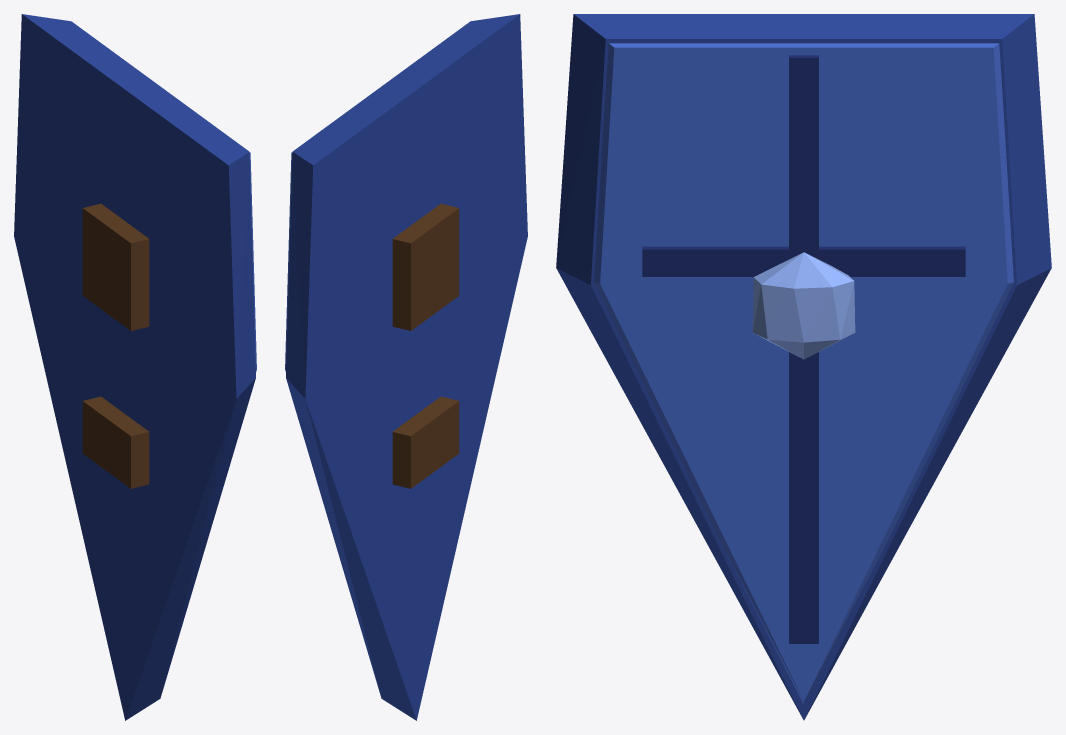
The model's file is held_mithril_shield.glb.
The picture shows the model from 3 angles, left to right: view 1: azimuth 30°, elevation 25°; view 2: azimuth 150°, elevation 25°; view 3: azimuth 270°, elevation 25°; orthographic projection. The views are drawn at different scales.
Visible parts, largest first — view 1: held_mithril_shield; view 2: held_mithril_shield; view 3: held_mithril_shield.
Boxes of the visible parts, x1=… form: held_mithril_shield: x1=14, y1=14, x2=256, y2=720; held_mithril_shield: x1=285, y1=14, x2=527, y2=720; held_mithril_shield: x1=556, y1=14, x2=1051, y2=720.
Size of the model in its own units: 0.1057 by 0.72 by 0.4601.
